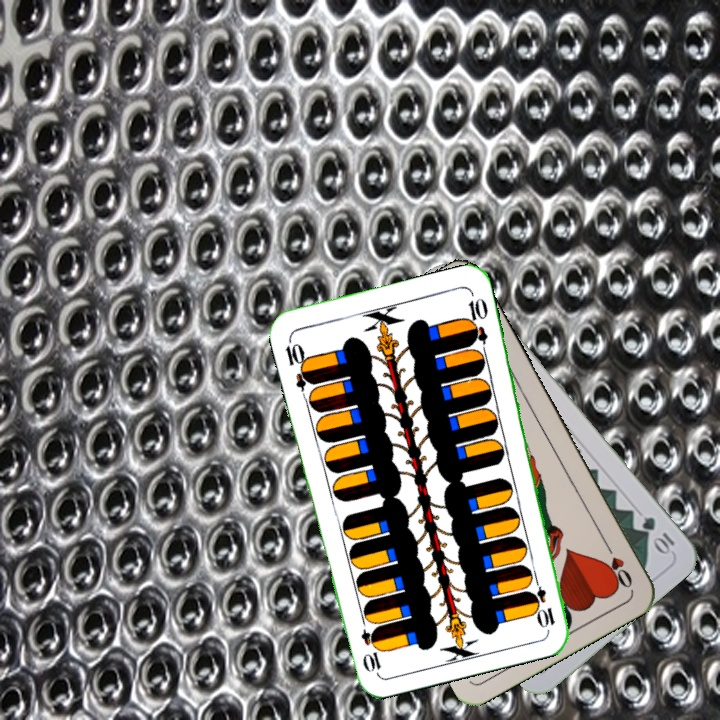E10: (281, 334, 316, 392), (528, 572, 558, 630)
G10: (637, 512, 678, 557)
HO: (600, 537, 635, 591)
